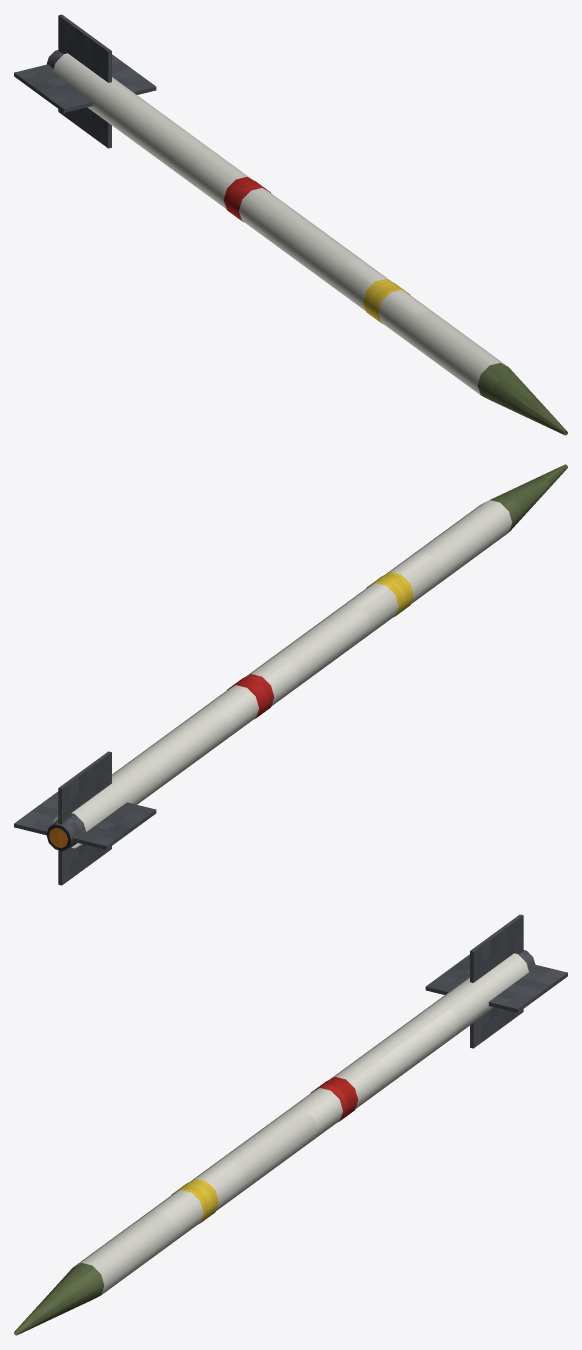
Rendered from rocket_smerch.glb.
3 renders of one model, top to bottom at view 1: azimuth 30°, elevation 25°; view 2: azimuth 150°, elevation 25°; view 3: azimuth 330°, elevation 25°, orthographic.
Parts seen in each view (by area): view 1: body; view 2: body; view 3: body.
Part boxes in pixels (bbox=[...]): body: bbox=[14, 14, 567, 435]; body: bbox=[14, 464, 567, 885]; body: bbox=[14, 914, 567, 1335].
Bounding box in the file's own units: 0.8 × 0.8 × 7.61.
1 material, 1 textured.
